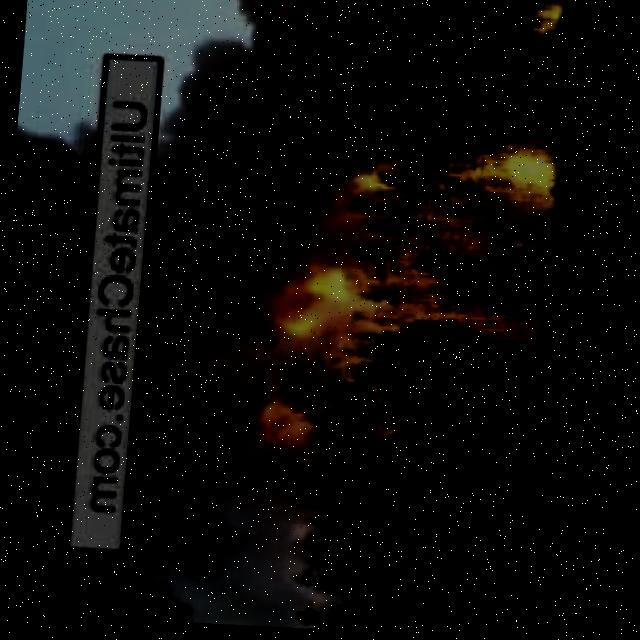Fire: (271, 128, 559, 363), (247, 398, 344, 453), (530, 3, 563, 40)
